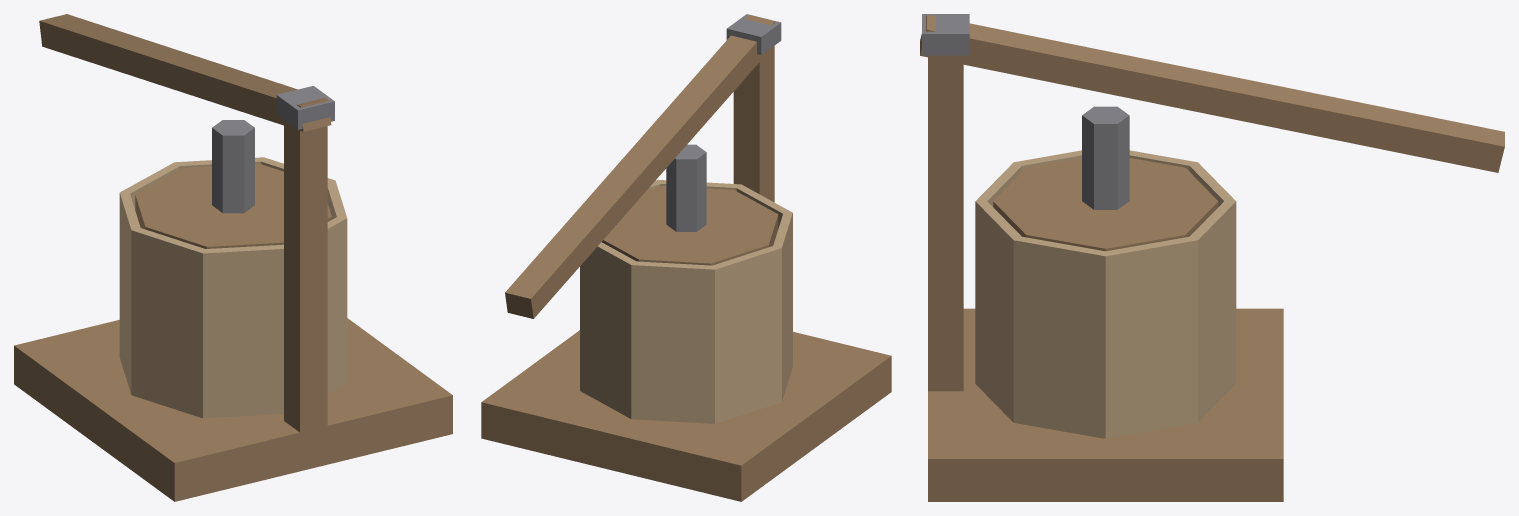
The model's file is prop-wine-press-lever.fbx.
The picture shows the model from 3 angles, left to right: view 1: azimuth 30°, elevation 25°; view 2: azimuth 150°, elevation 25°; view 3: azimuth 270°, elevation 25°; orthographic projection. The views are drawn at different scales.
Parts seen in each view (by area): view 1: prop-wine-press-lever; view 2: prop-wine-press-lever; view 3: prop-wine-press-lever.
Part boxes in pixels (x1,y1,x2,y2): prop-wine-press-lever: (14, 14, 452, 501); prop-wine-press-lever: (481, 14, 891, 501); prop-wine-press-lever: (920, 14, 1504, 501).
Bounding box in the file's own units: 60 × 75.35 × 98.68.
